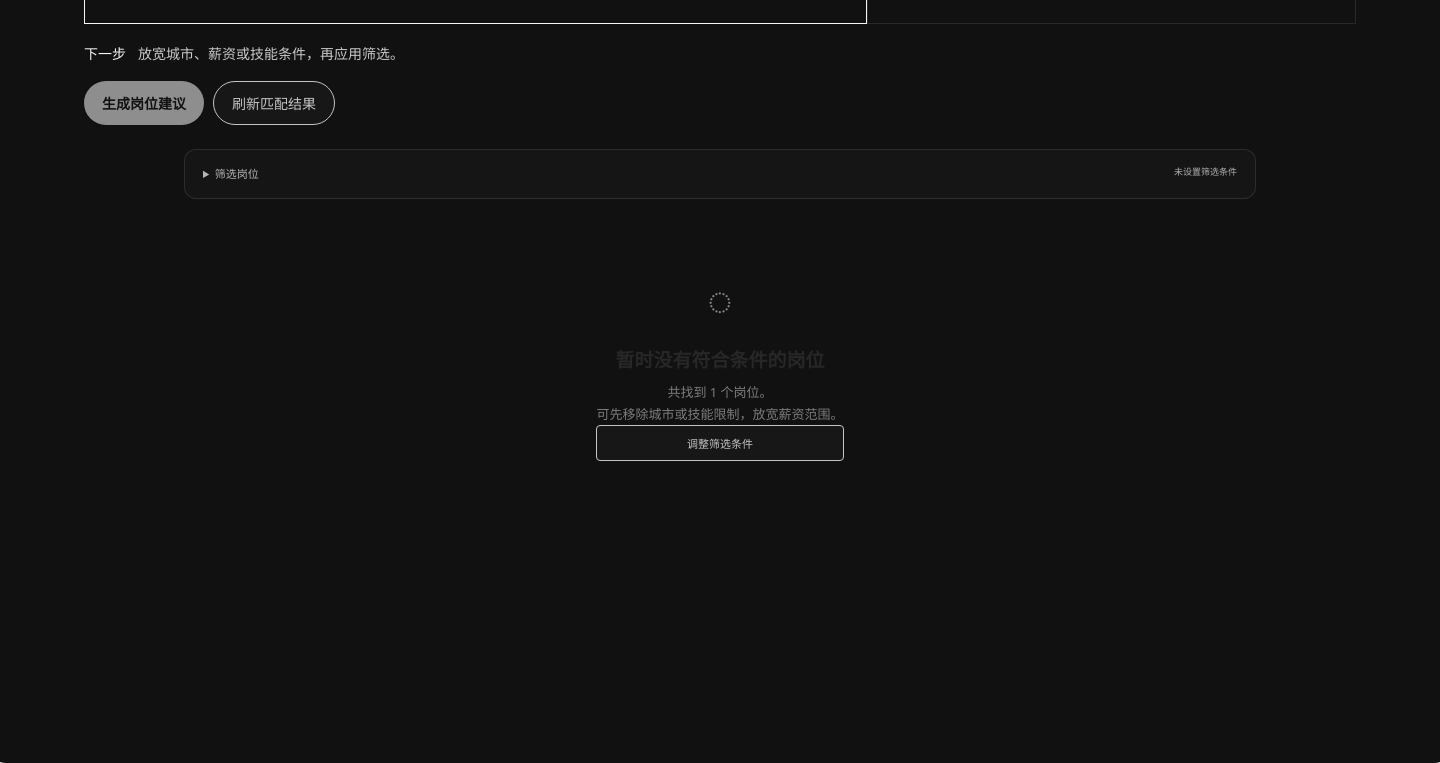
it: MatchesTab integration › opens and focuses the filters from the empty result action so the user can recover
The width and height of the screenshot is (1440, 763).
(page scrolled)
Click the button "调整筛选条件" at (720, 443), box [596,425,844,461]
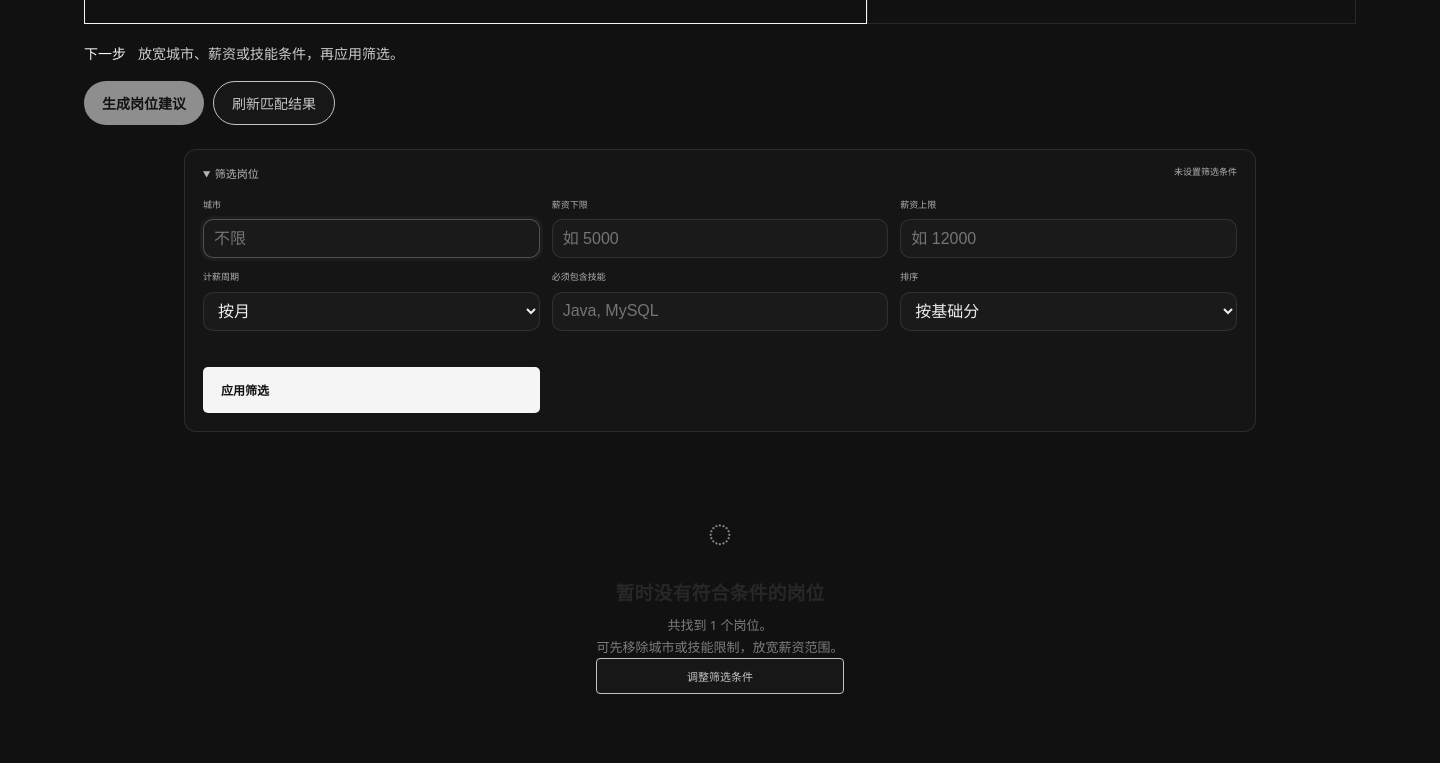
Check: the field labelled "城市" is shown
Type "上海" into the field labelled "城市" at (371, 239), box [203,219,540,258]
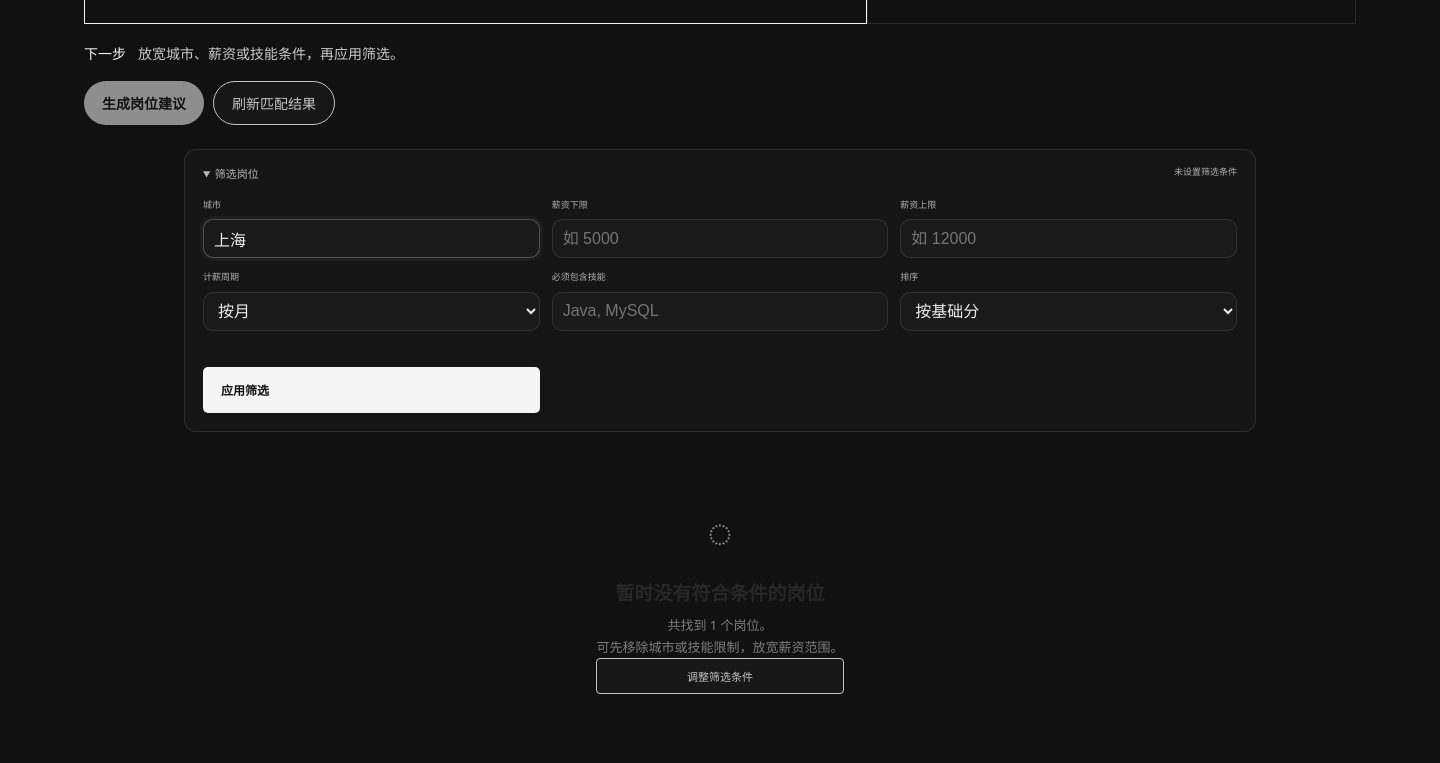
Click the button "应用筛选" at (245, 392), box [203,367,540,413]
(page scrolled)
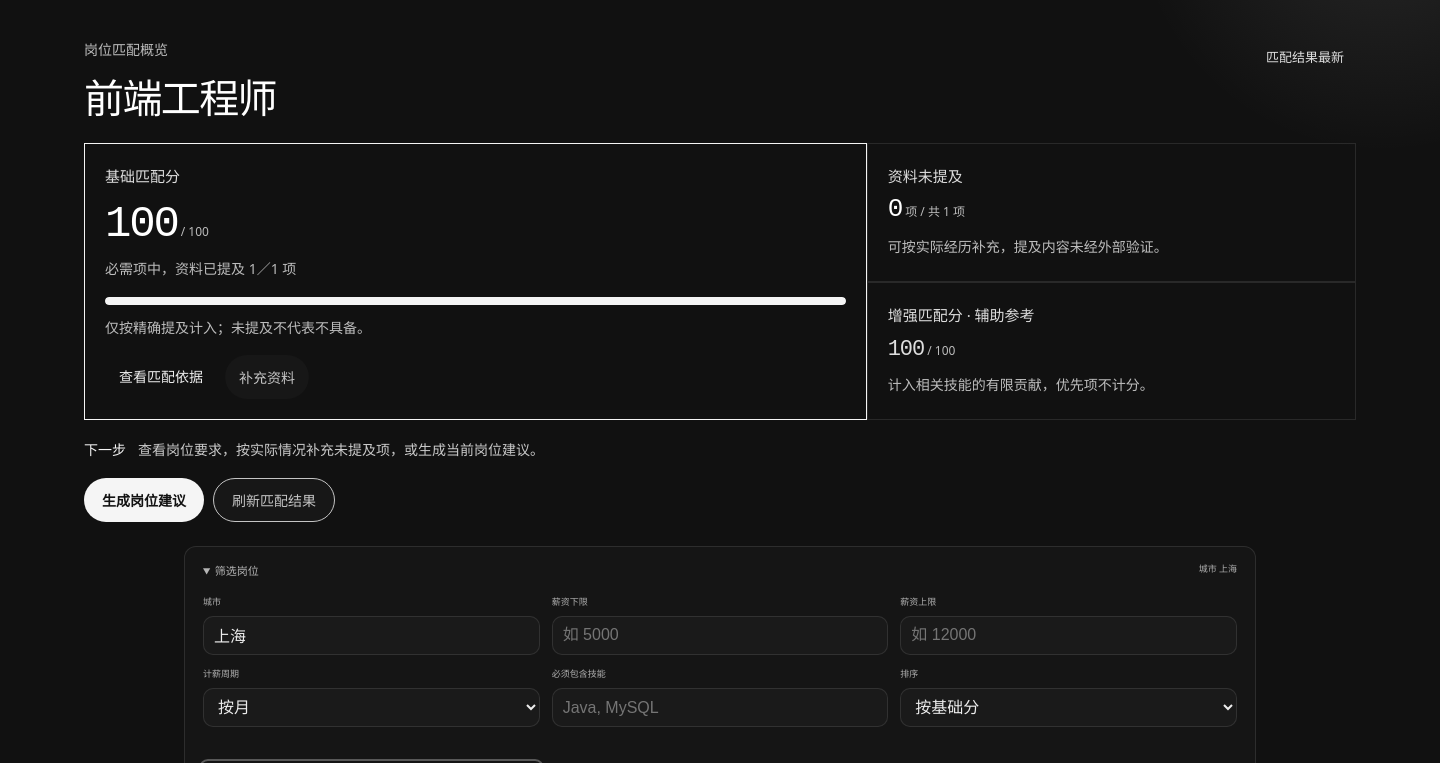
Check: the heading "前端工程师" is shown, box [84,73,276,123]
